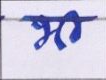i_matra: (66, 10, 79, 42)
